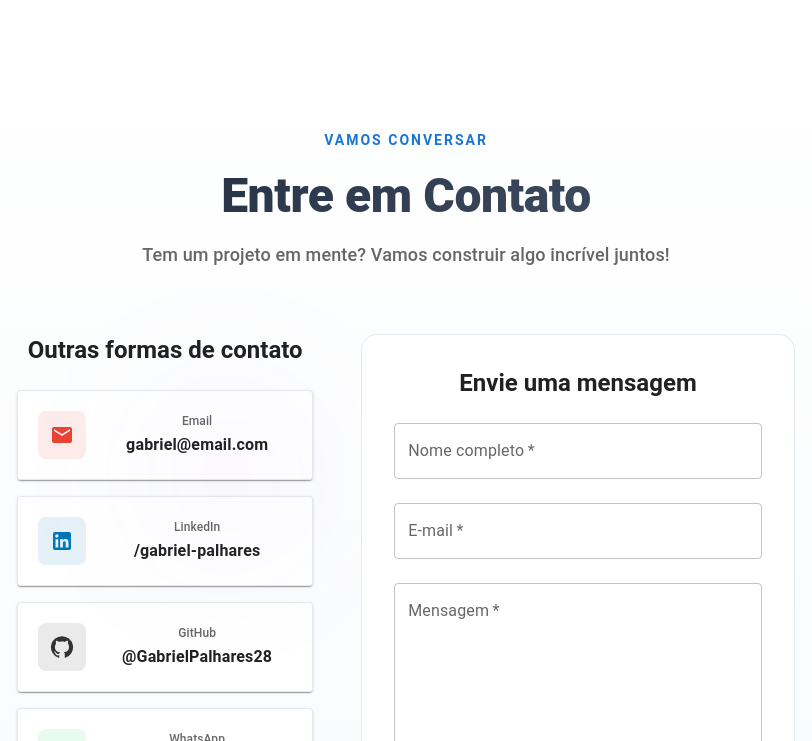
Test: Contact › shows the API error message when the request fails
In the field labelled "Nome completo *": (578,451) left=394, top=423, right=762, bottom=479, type "Gabriel Palhares"
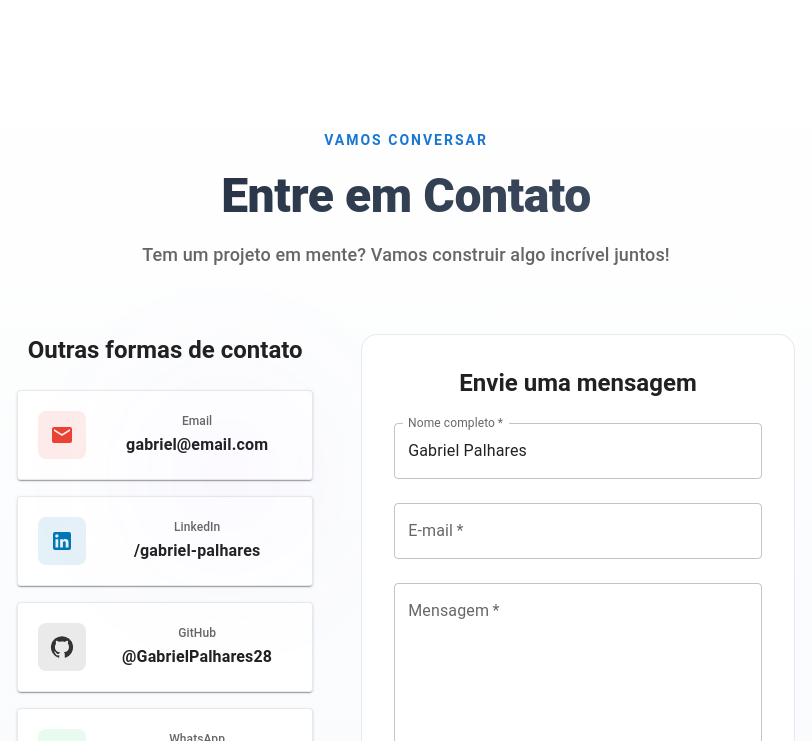
In the field labelled "E-mail *": (578,531) left=394, top=503, right=762, bottom=559, type "gabriel@example.com"
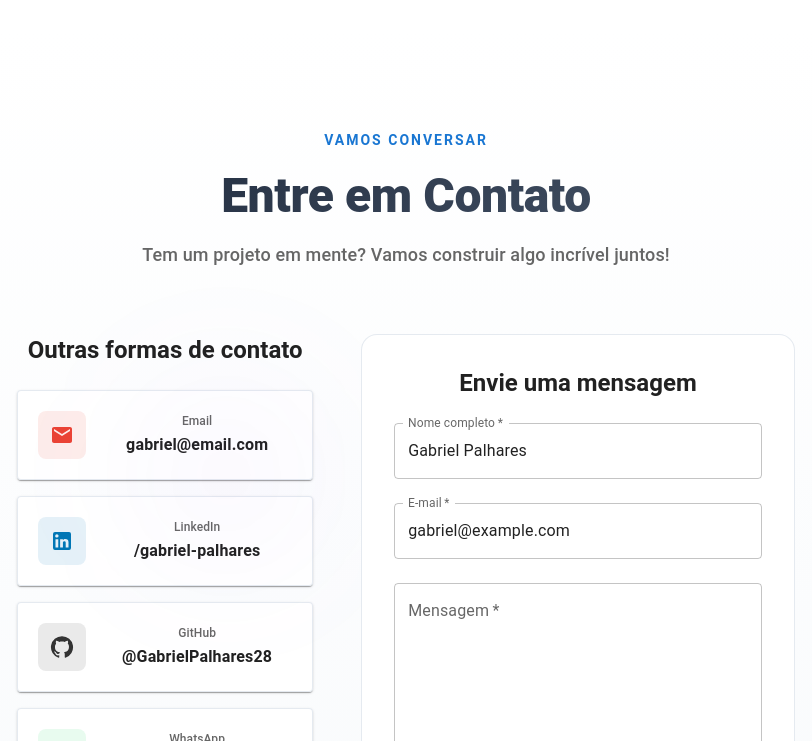
In the text box labelled "Mensagem *": (578,668) left=408, top=599, right=748, bottom=737, type "Mensagem com mais de dez caracteres"
(page scrolled)
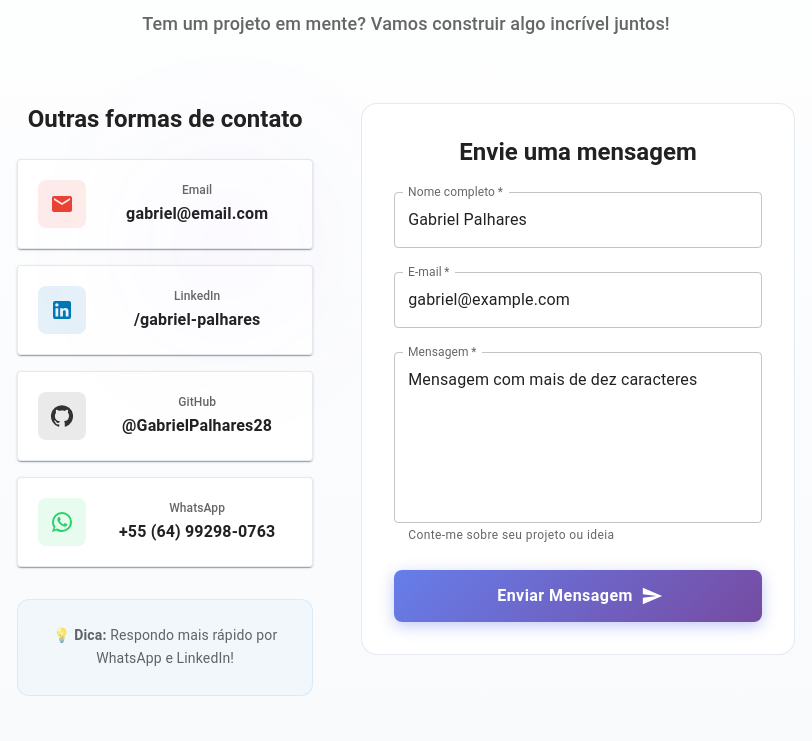
Submit the form, box left=361, top=103, right=795, bottom=654
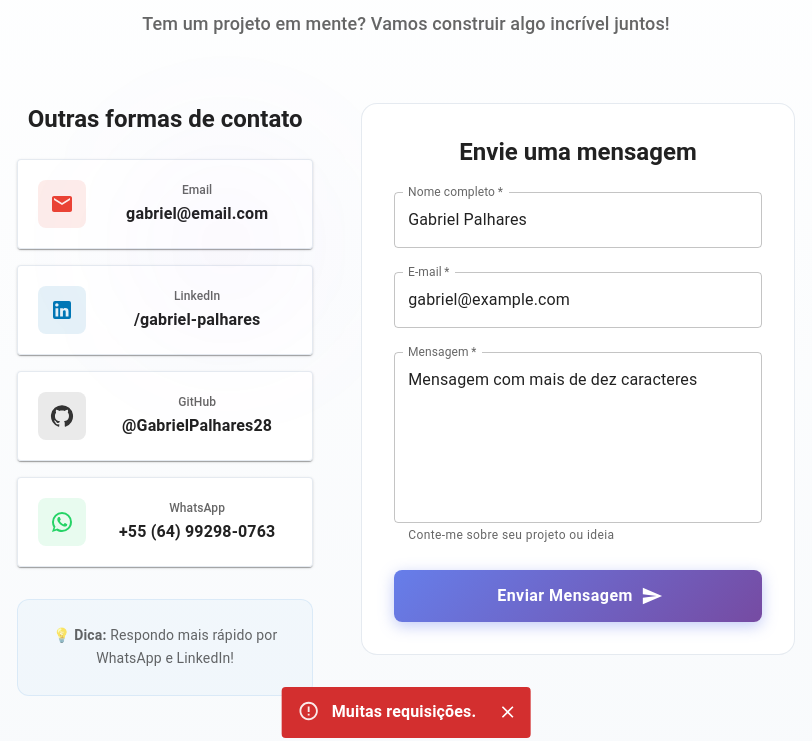
Check: the text "Muitas requisições." is shown, box left=332, top=702, right=476, bottom=721
